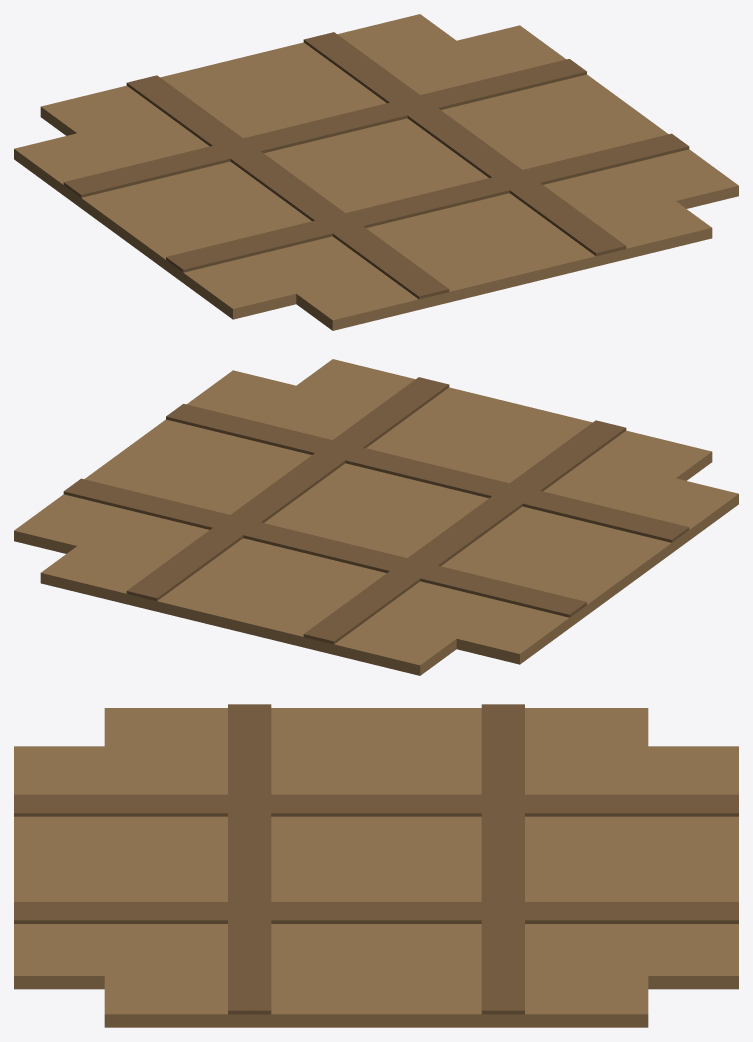
File: road_dirt_cross.glb
3 views of the same model, one above another, from view 1: azimuth 30°, elevation 25°; view 2: azimuth 150°, elevation 25°; view 3: azimuth 270°, elevation 25° (orthographic). The views are drawn at different scales.
Visible parts, largest first — view 1: street_dirt_cross; view 2: street_dirt_cross; view 3: street_dirt_cross.
Part boxes in pixels (x1,y1,x2,y2): street_dirt_cross: (14,14,738,330); street_dirt_cross: (14,359,738,675); street_dirt_cross: (14,704,738,1027).
Size of the model in its own units: 2 by 0.051 by 2.
